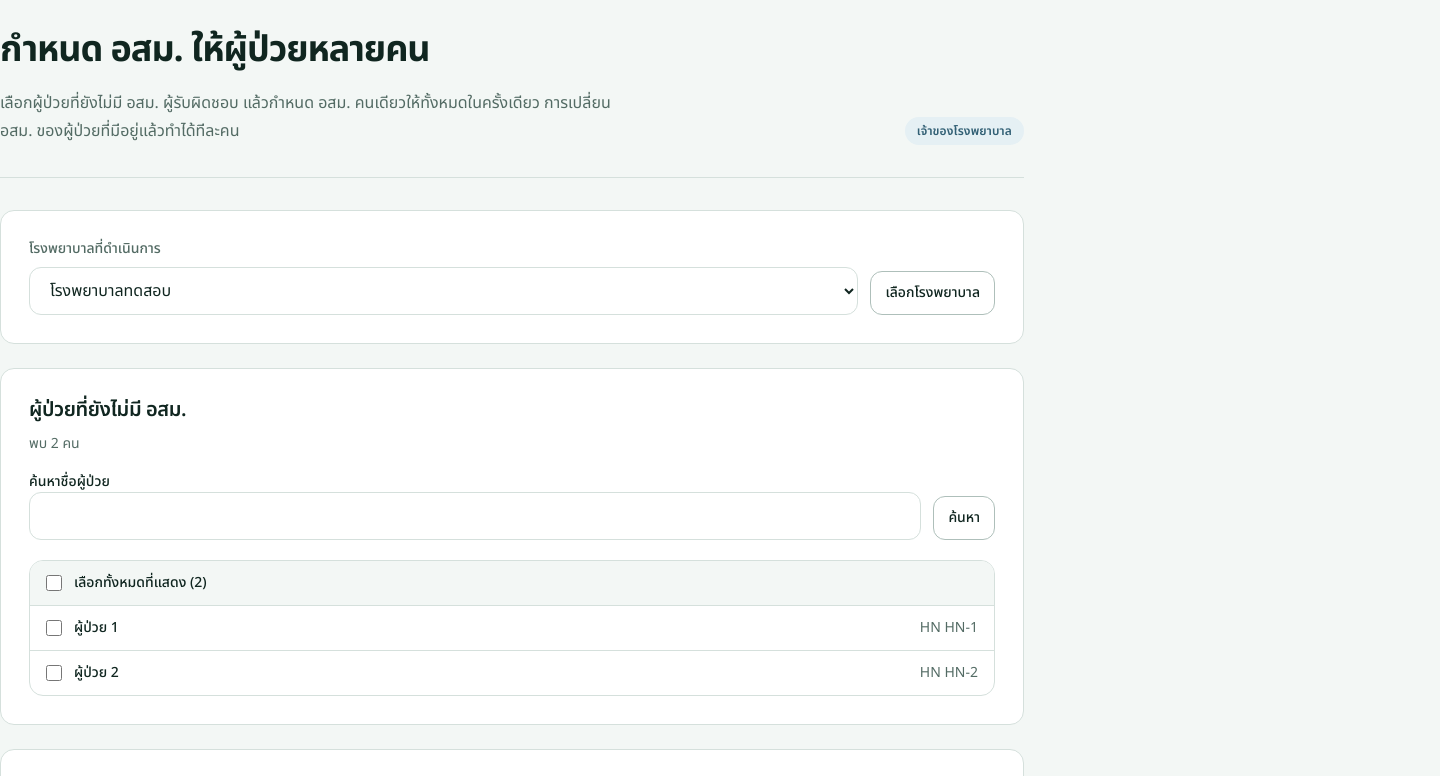
Test: bulk OSM assignment feedback › treats returned UNAVAILABLE as unconfirmed: no Toast, resend offered
Click the checkbox labelled "ผู้ป่วย 1 HN HN-1".
click(54, 628)  # box [46,620,62,636]
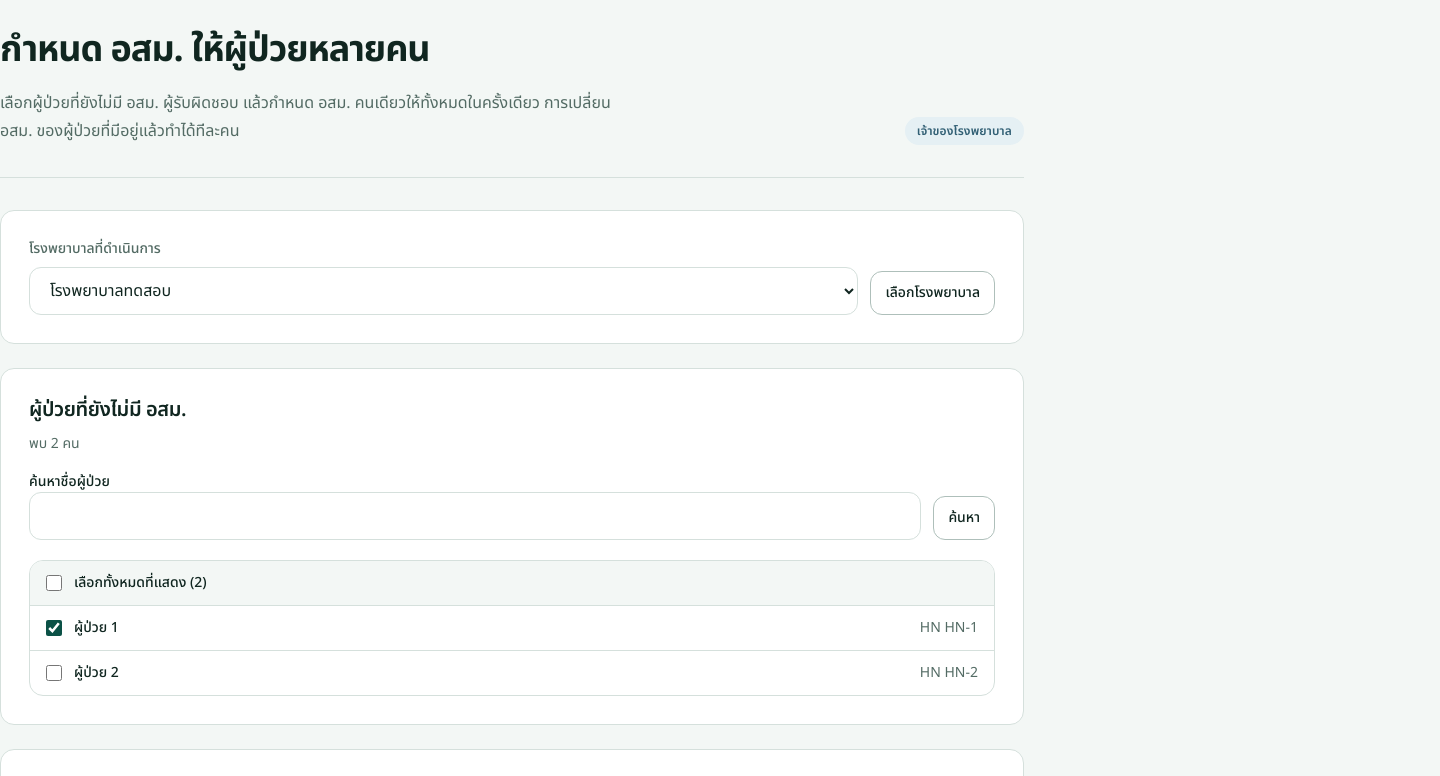
Click the checkbox labelled "ผู้ป่วย 2 HN HN-2".
click(54, 673)  # box [46,665,62,681]
(page scrolled)
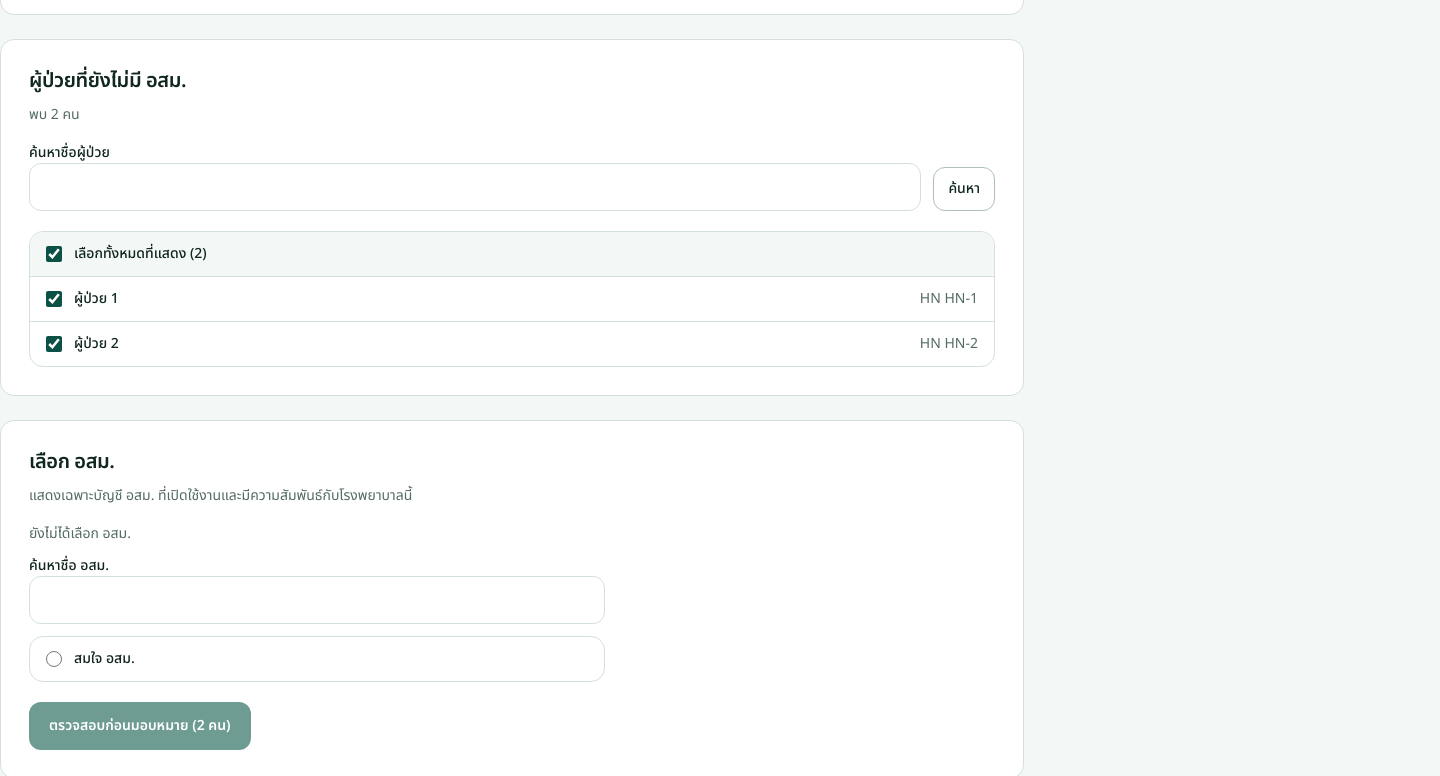
Click the radio button named "osm-candidate".
click(54, 659)  # box [46,651,62,667]
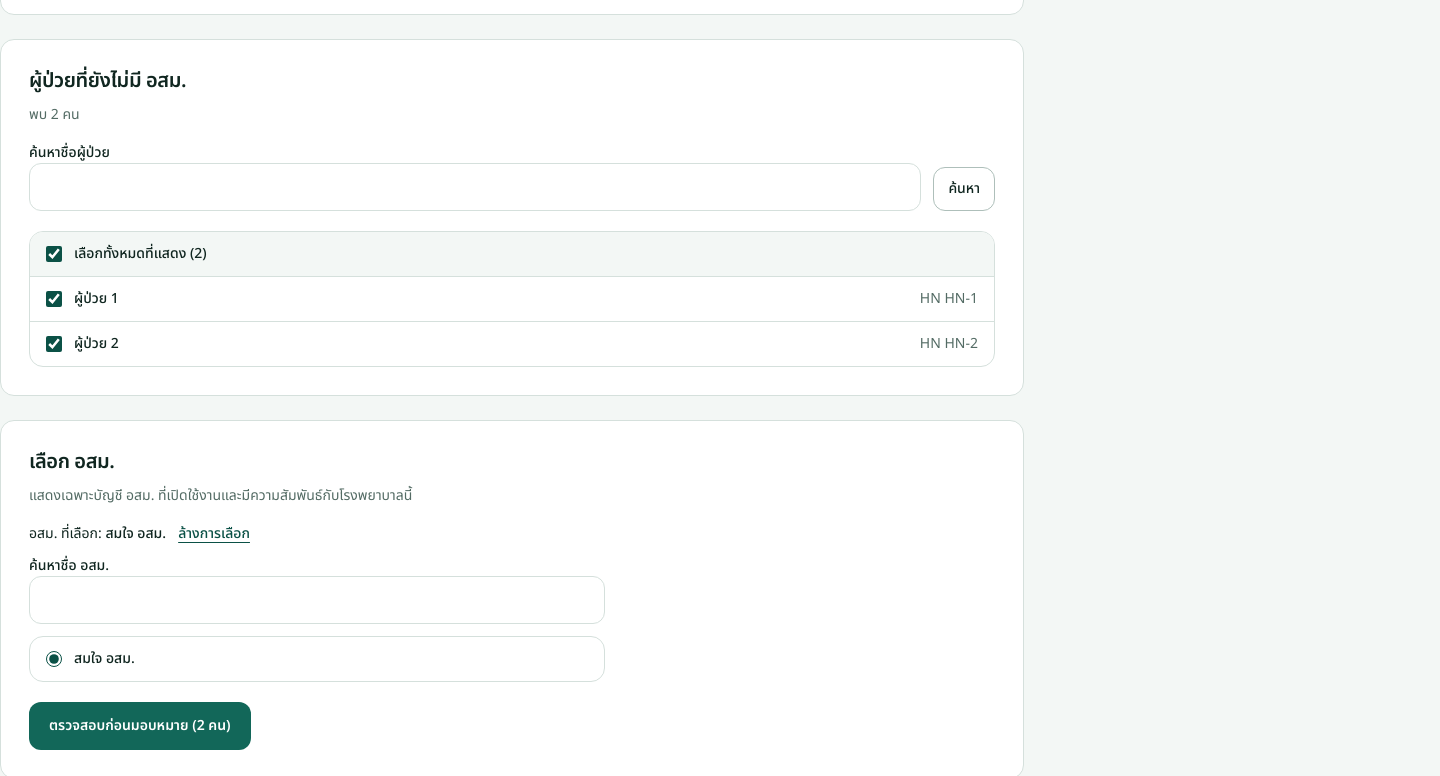
Click the button "ตรวจสอบก่อนมอบหมาย (2 คน)".
click(140, 726)  # box [29,702,251,750]
(page scrolled)
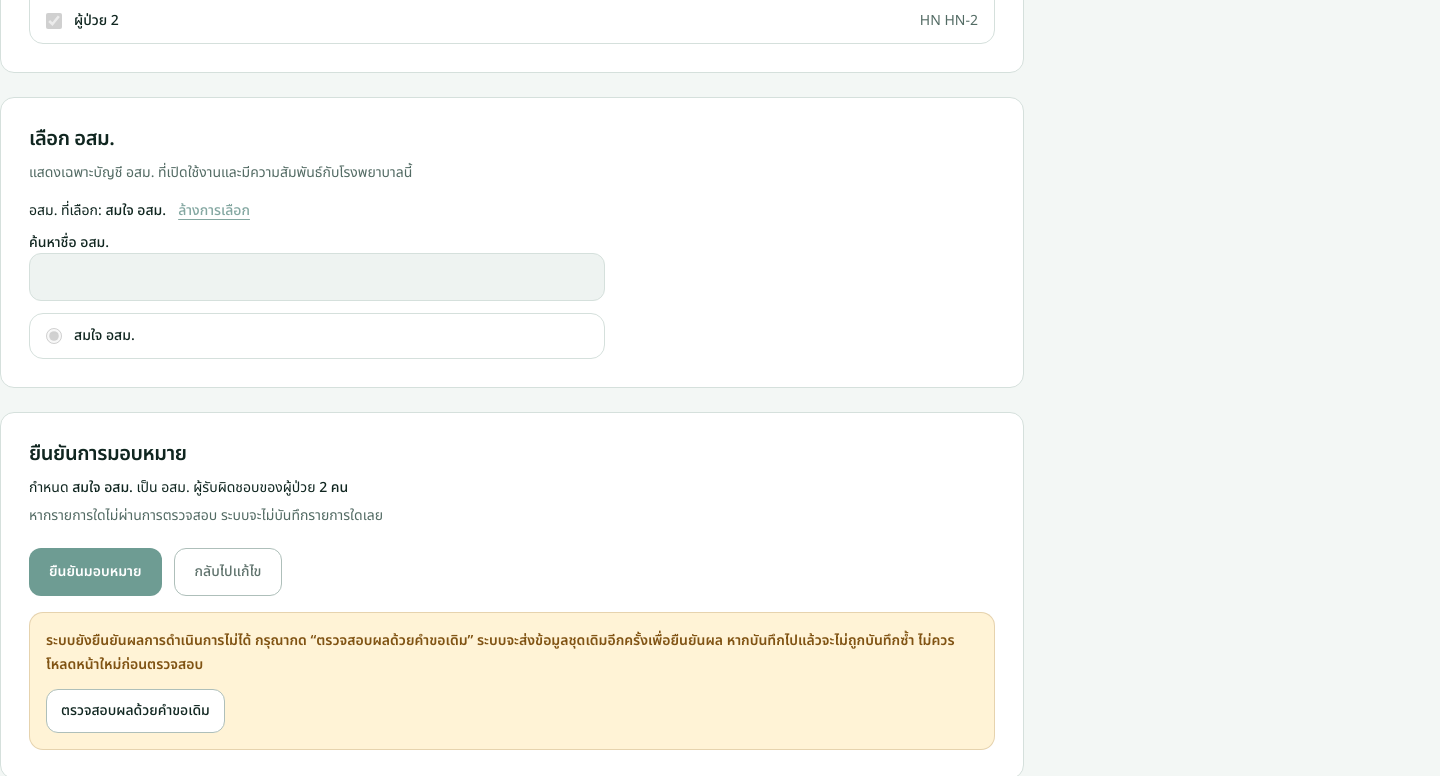
expect the text "ตรวจสอบผลด้วยคำขอเดิม" is shown: met, box [46,630,954,675]
expect the button "ยืนยันมอบหมาย" is disabled: met, box [29,548,162,596]
